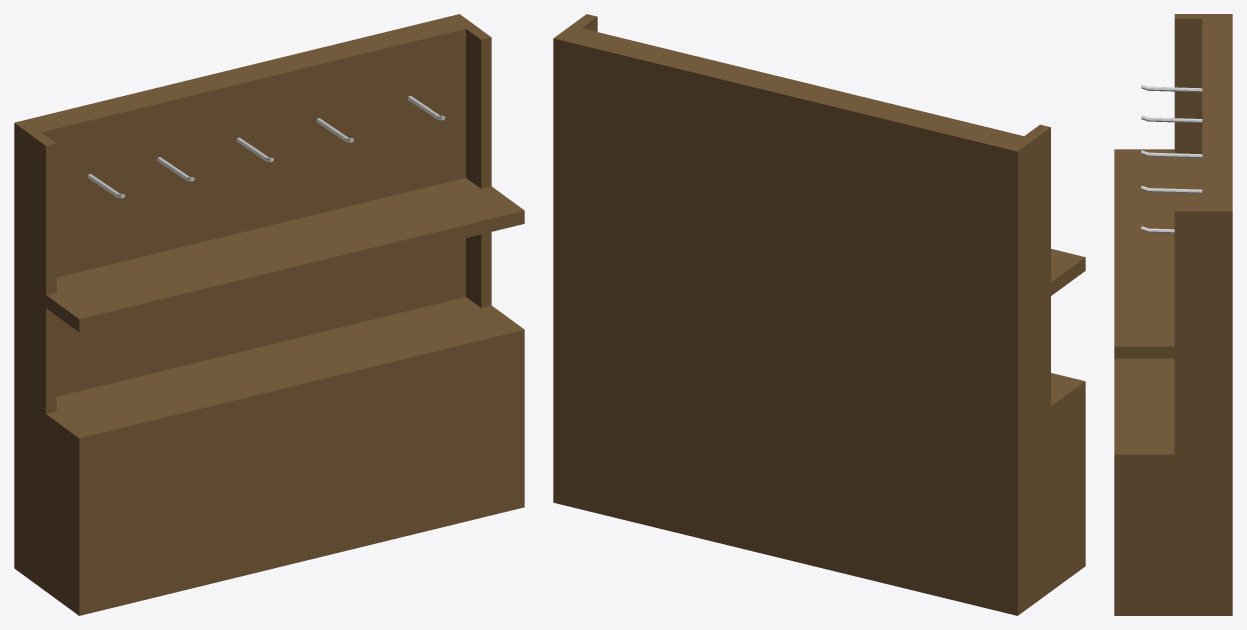
Rendered from Ma_Shelves_3.fbx.
3 views of the same model, side by side, from view 1: azimuth 30°, elevation 25°; view 2: azimuth 150°, elevation 25°; view 3: azimuth 270°, elevation 25° (orthographic). The views are drawn at different scales.
Visible parts, largest first — view 1: Ma_Shelves_3; view 2: Ma_Shelves_3; view 3: Ma_Shelves_3.
Boxes of the visible parts, bbox=[...] form: Ma_Shelves_3: bbox=[14, 14, 524, 615]; Ma_Shelves_3: bbox=[553, 14, 1085, 615]; Ma_Shelves_3: bbox=[1114, 14, 1232, 615].
Size of the model in its own units: 1294 by 328 by 1237.
